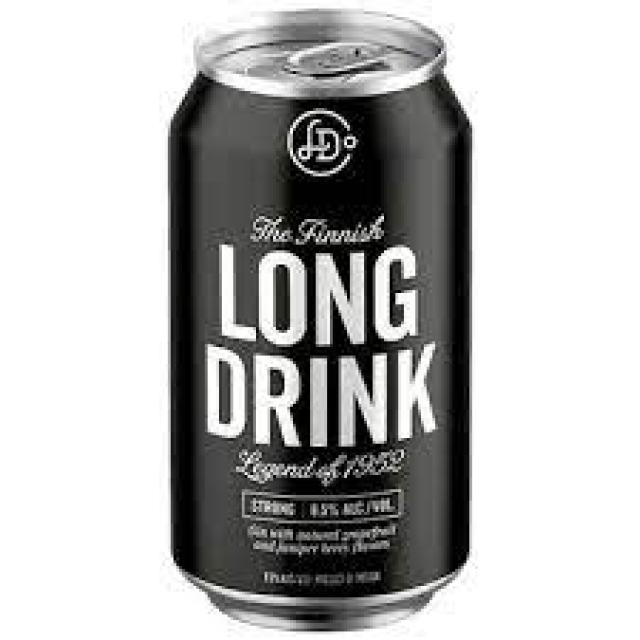Cans: (162, 6, 487, 632)
